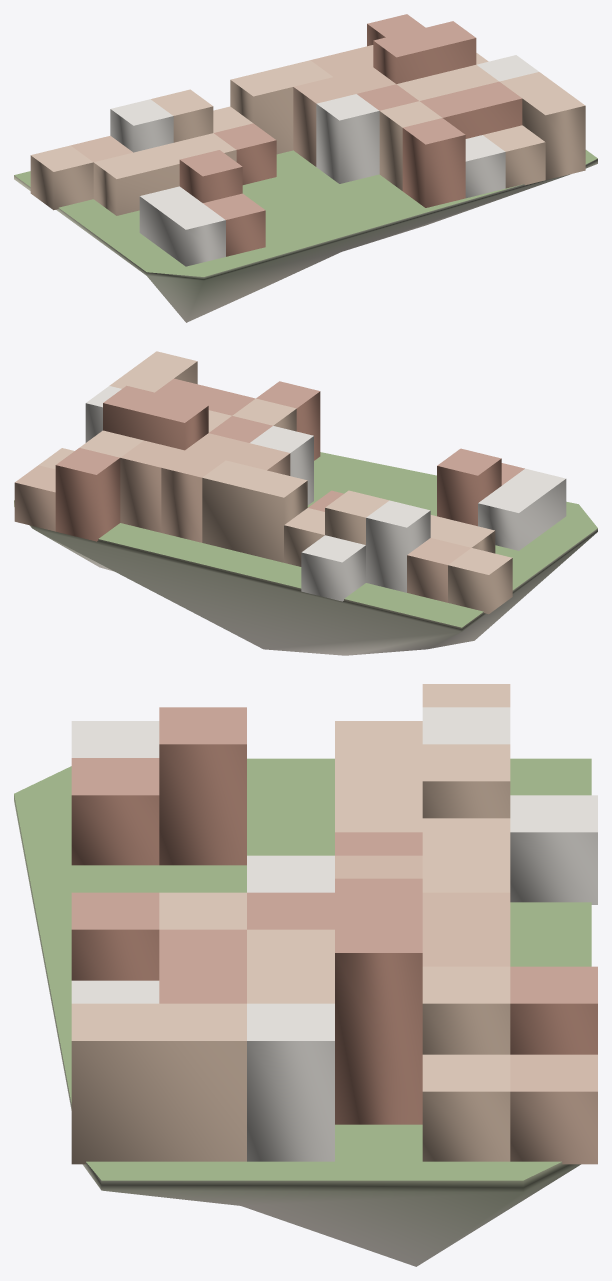
Rendered from SKY-082.lod2.glb.
3 renders of one model, top to bottom at view 1: azimuth 30°, elevation 25°; view 2: azimuth 150°, elevation 25°; view 3: azimuth 270°, elevation 25°, orthographic. The views are drawn at different scales.
Visible parts, largest first — view 1: warren_hull, deck, rock; view 2: warren_hull, rock, deck; view 3: warren_hull, deck, rock.
Part boxes in pixels (<box>): warren_hull: <box>30,14,585,266</box>; deck: <box>14,150,597,276</box>; rock: <box>14,158,597,322</box>; warren_hull: <box>14,351,566,614</box>; rock: <box>14,501,597,655</box>; deck: <box>14,452,597,627</box>; warren_hull: <box>71,684,597,1164</box>; deck: <box>14,758,591,1180</box>; rock: <box>14,795,580,1266</box>.
Size of the model in its own units: 173 by 73.08 by 99.87.
